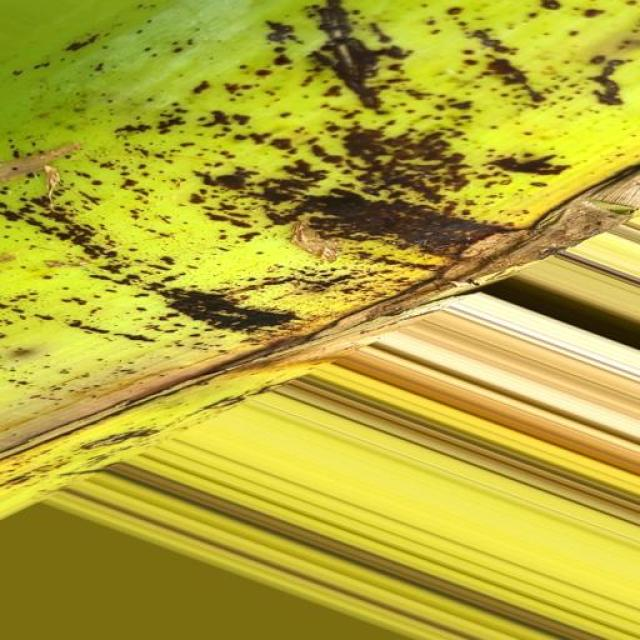Anthracnose: (1, 0, 640, 540)
